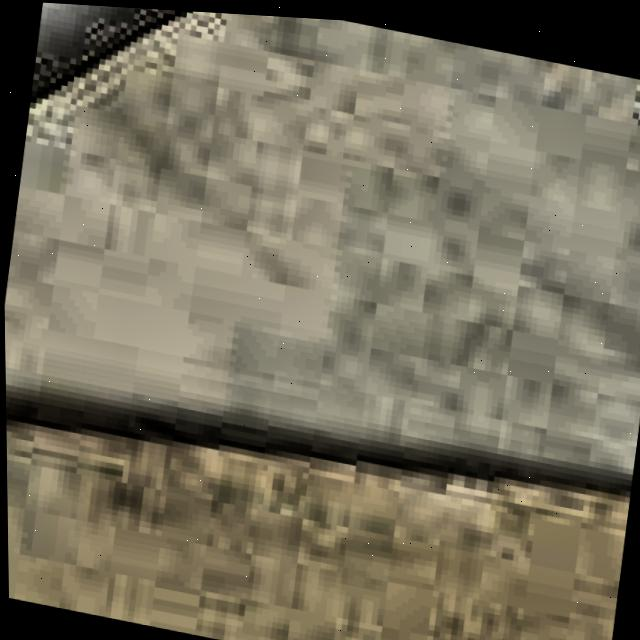paper: (3, 11, 640, 640), (5, 427, 629, 640)
